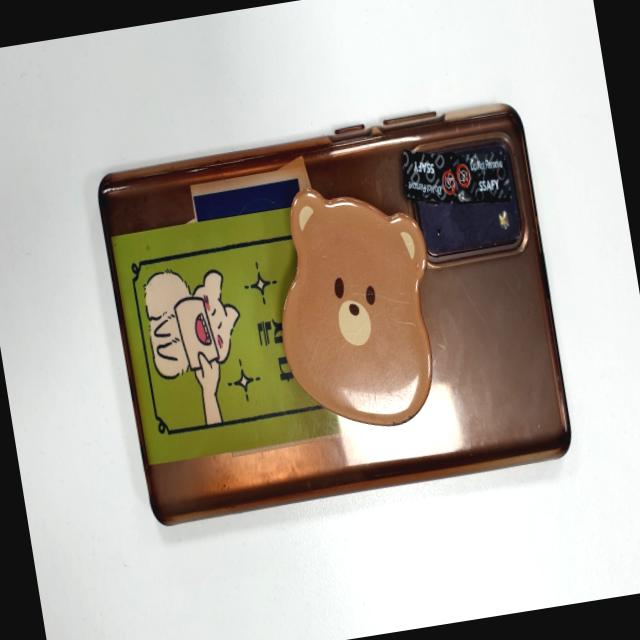phone: (94, 90, 574, 526)
removed_sticker: (398, 146, 461, 203), (452, 148, 512, 204)
